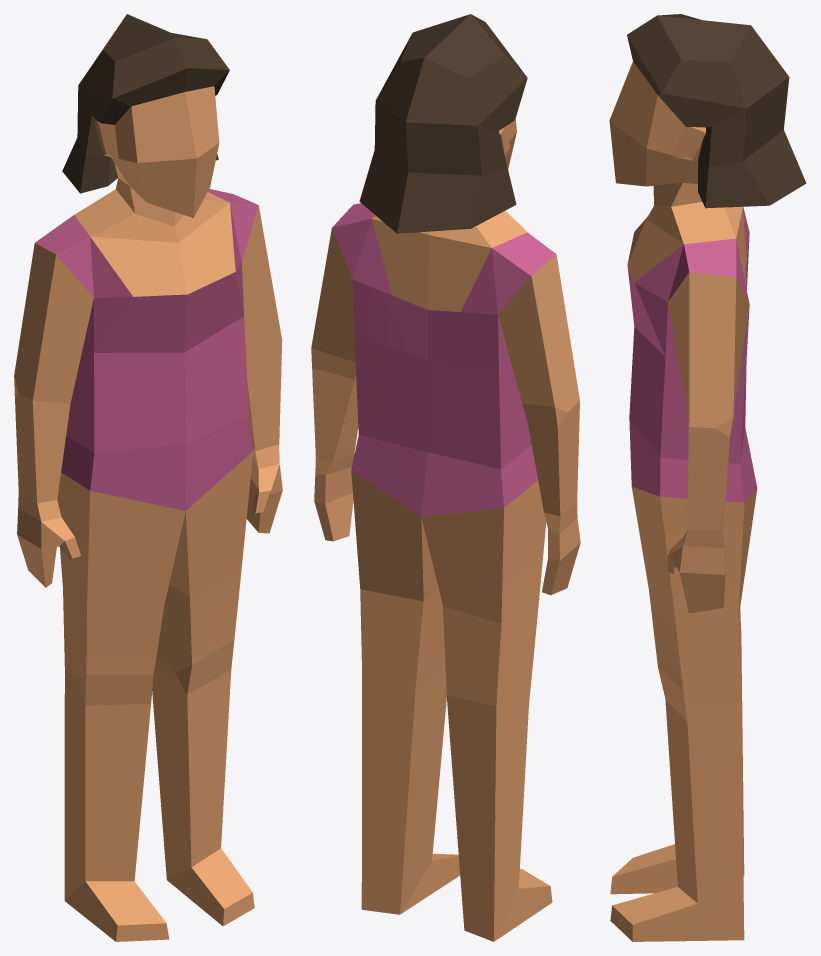
The model's file is people_girl-beach.fbx.
3 views of the same model, side by side, from view 1: azimuth 30°, elevation 25°; view 2: azimuth 150°, elevation 25°; view 3: azimuth 270°, elevation 25° (orthographic).
Parts seen in each view (by area): view 1: people_girl_beach; view 2: people_girl_beach; view 3: people_girl_beach.
Part boxes in pixels (<box>): people_girl_beach: <box>14,14,282,941</box>; people_girl_beach: <box>311,14,580,941</box>; people_girl_beach: <box>609,14,806,941</box>.
Size of the model in its own units: 60.01 by 200 by 40.03.
